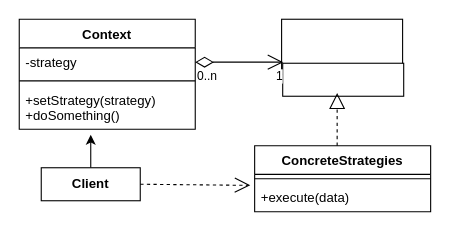
Image size: 450x234. Some labels were removed from this diagram. The centre of each missing label's shape, as x and y in pixels:
+execute(date): [343,79]
«interface» Strategy: [341,46]
